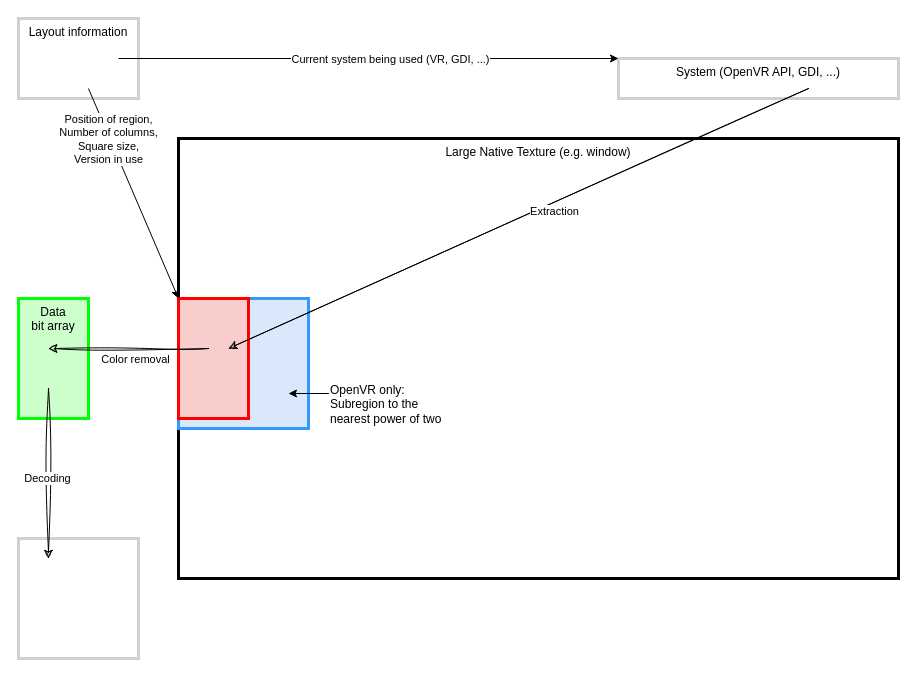
This 917x677 diagram has some shape labels left out. Each missing label, with the centre of its shape:
"Data Data integrity, Time, Version in use, Light data, Projection data" belongs at (78,598).
"Data pixels byte array" belongs at (213,358).
